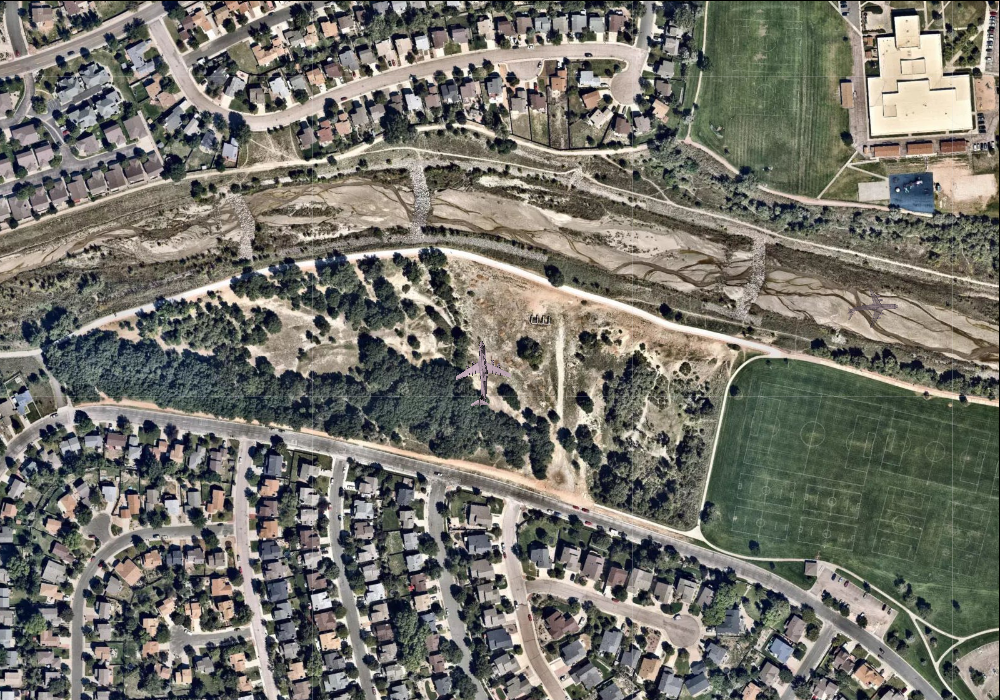plane: (448, 339, 514, 408), (846, 284, 899, 334)
